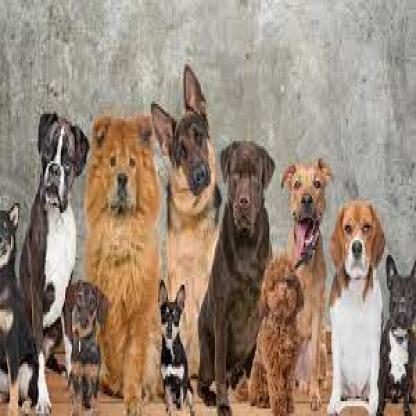dog: (87, 114, 164, 411), (152, 69, 222, 389), (18, 112, 86, 408), (198, 146, 269, 414), (280, 156, 329, 414), (329, 198, 381, 414), (238, 255, 302, 416), (1, 203, 39, 416), (376, 255, 414, 416), (64, 285, 102, 416), (156, 280, 192, 416)
